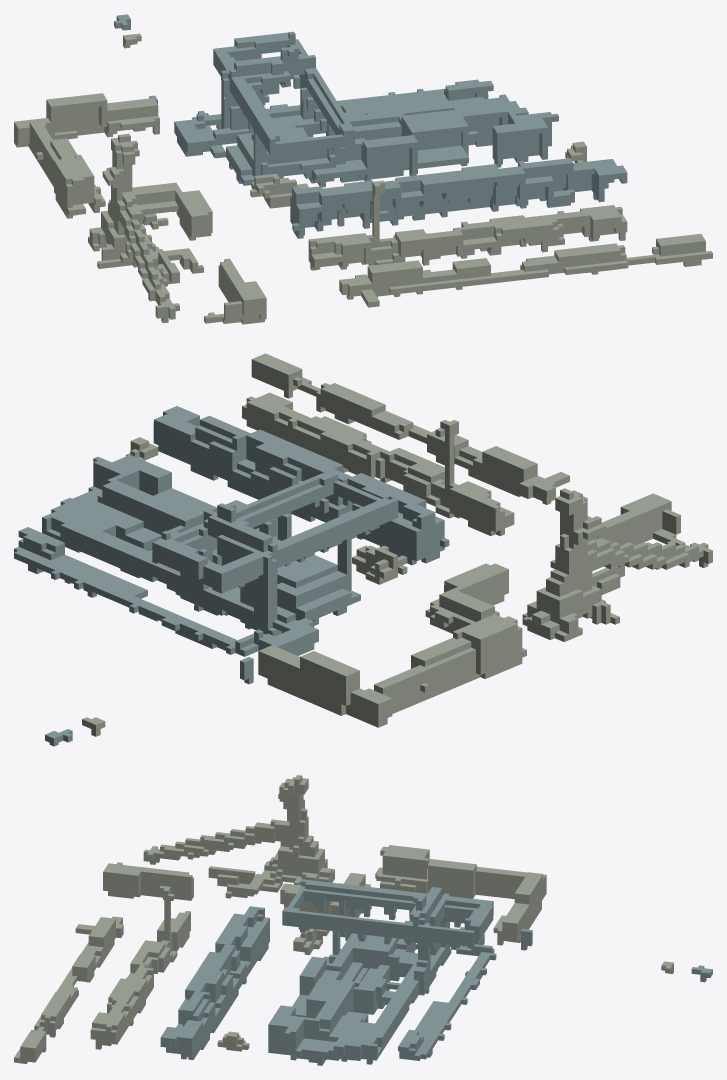
3 views of the same model, one above another, from view 1: azimuth 30°, elevation 25°; view 2: azimuth 150°, elevation 25°; view 3: azimuth 270°, elevation 25° (orthographic). The views are drawn at different scales.
Parts seen in each view (by area): view 1: measured-industrial; view 2: measured-industrial; view 3: measured-industrial.
Part boxes in pixels (left/top/right/bottom): measured-industrial: left=14, top=14, right=712, bottom=324; measured-industrial: left=14, top=353, right=712, bottom=746; measured-industrial: left=14, top=775, right=712, bottom=1065.
Size of the model in its own units: 142 by 33.04 by 201.
